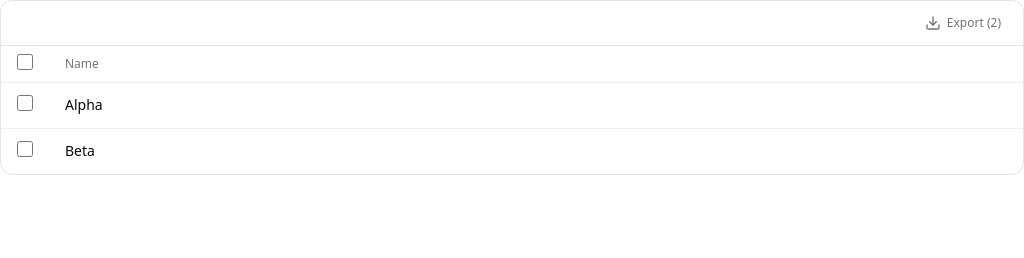
Test: DataTable — unit › Row Selection › Clear selection button deselects all rows and hides bulk bar
The image size is (1024, 258).
Click the checkbox named "select all" at (25, 62), box x1=17 y1=54 x2=33 y2=70
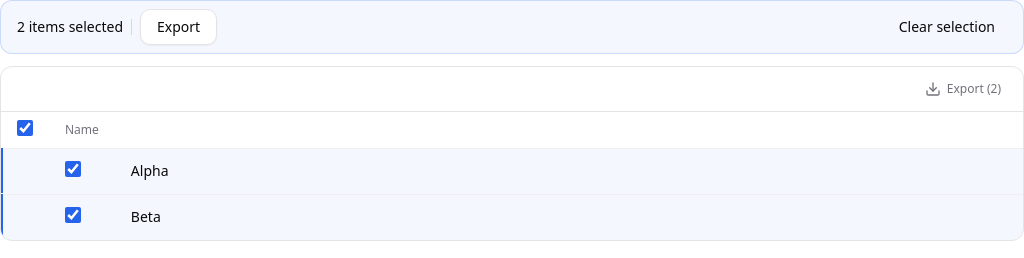
Click the button "Clear selection" at (947, 27), box x1=887 y1=11 x2=1007 y2=43
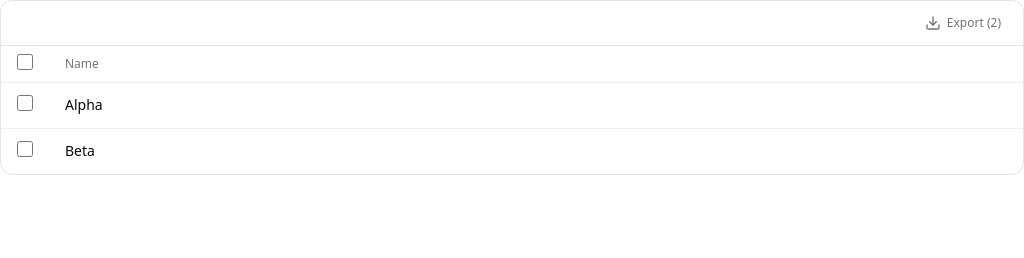
Check: the text "items selected" is gone
